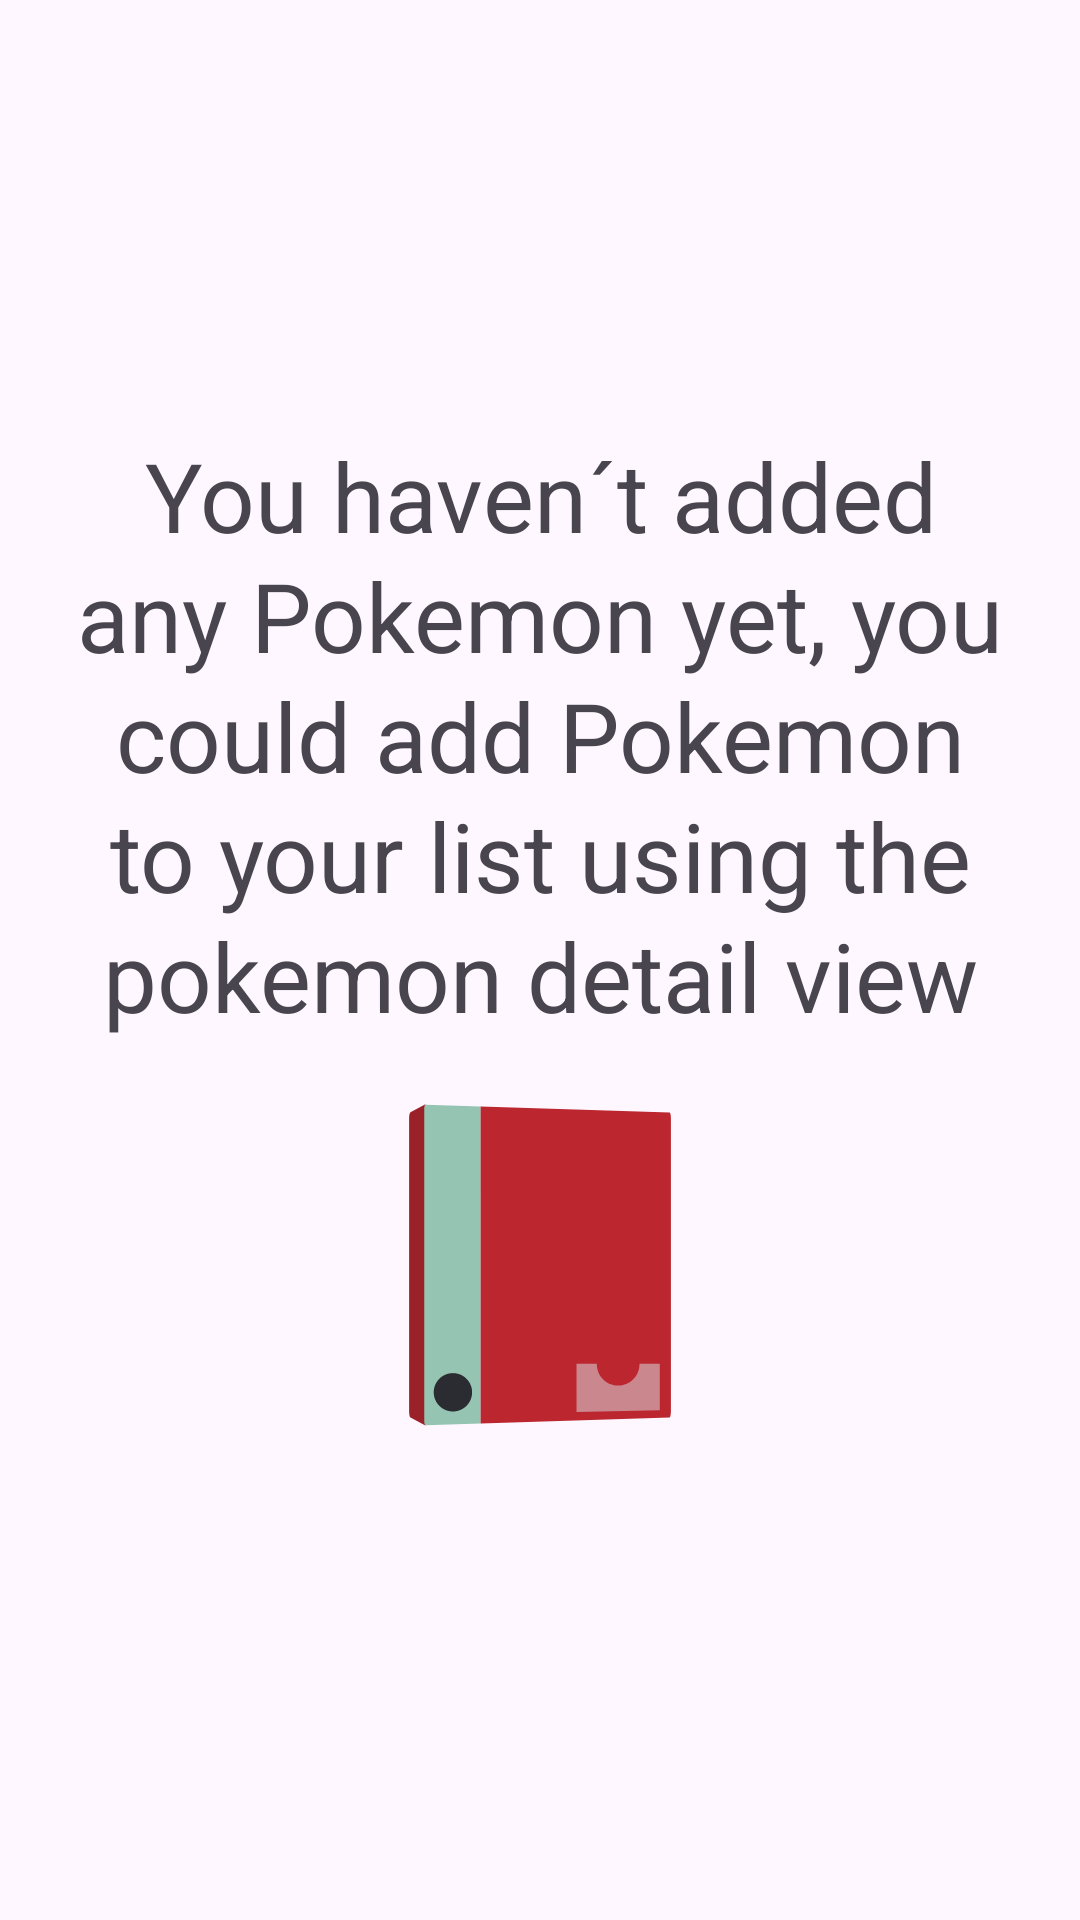

Where icons sit on this 1080 x 1920 app screen, as (left=x1, top=y1, right=x2, bottom=y2):
pokedex: (left=409, top=1104, right=671, bottom=1426)
